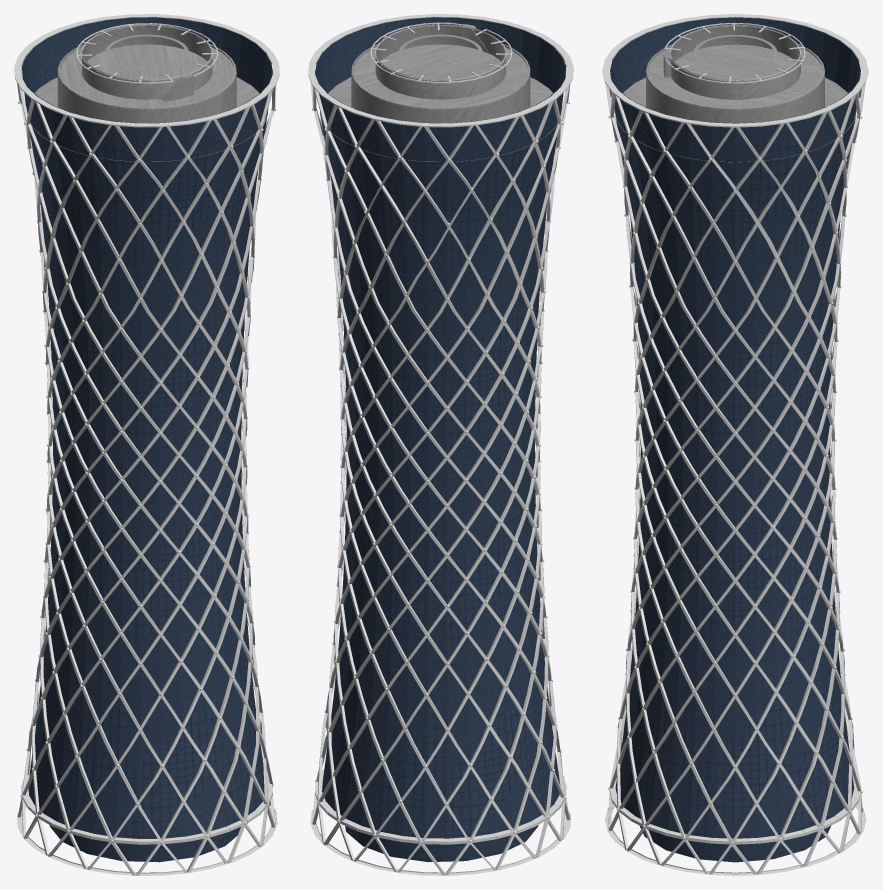
Rendered from tornado_tower_low.glb.
3 renders of one model, left to right at view 1: azimuth 30°, elevation 25°; view 2: azimuth 150°, elevation 25°; view 3: azimuth 270°, elevation 25°, orthographic.
Parts seen in each view (by area): view 1: Tornado_1435, Tornado_1165, Tornado_1445, Tornado_803, Tornado_1269, Tornado_roof, Tornado_1157; view 2: Tornado_1435, Tornado_1165, Tornado_1445, Tornado_803, Tornado_1269, Tornado_roof, Tornado_1157; view 3: Tornado_1435, Tornado_1165, Tornado_1445, Tornado_803, Tornado_1269, Tornado_roof, Tornado_1157.
Part boxes in pixels (x1=…): Tornado_1435: x1=28, y1=75, x2=267, y2=862; Tornado_1165: x1=14, y1=14, x2=279, y2=875; Tornado_1445: x1=31, y1=25, x2=267, y2=161; Tornado_803: x1=22, y1=17, x2=272, y2=160; Tornado_1269: x1=18, y1=101, x2=275, y2=844; Tornado_roof: x1=76, y1=23, x2=217, y2=83; Tornado_1157: x1=17, y1=804, x2=277, y2=875; Tornado_1435: x1=320, y1=75, x2=560, y2=862; Tornado_1165: x1=308, y1=14, x2=573, y2=875; Tornado_1445: x1=320, y1=24, x2=557, y2=161; Tornado_803: x1=315, y1=17, x2=565, y2=160; Tornado_1269: x1=312, y1=101, x2=569, y2=843; Tornado_roof: x1=370, y1=22, x2=512, y2=83; Tornado_1157: x1=310, y1=803, x2=570, y2=875; Tornado_1435: x1=615, y1=75, x2=855, y2=862; Tornado_1165: x1=602, y1=14, x2=868, y2=874; Tornado_1445: x1=614, y1=25, x2=856, y2=162; Tornado_803: x1=610, y1=17, x2=860, y2=160; Tornado_1269: x1=608, y1=115, x2=862, y2=844; Tornado_roof: x1=664, y1=22, x2=805, y2=83; Tornado_1157: x1=605, y1=804, x2=865, y2=875.
Bounding box in the file's own units: 62.68 × 200 × 62.68.
Materials: 3 (3 with a texture image).
